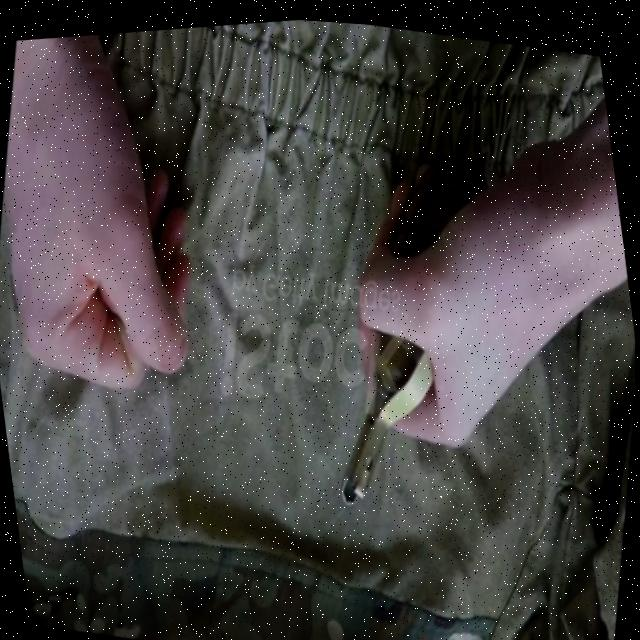grenade: (292, 118, 542, 539)
